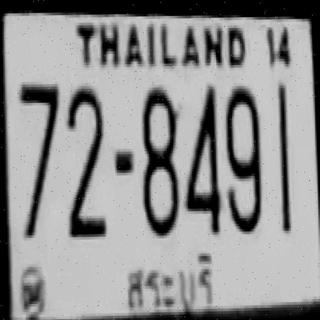N01: (276, 81, 291, 232)
N02: (64, 83, 105, 234)
N04: (182, 84, 220, 232)
N07: (18, 78, 60, 235)
N08: (140, 83, 179, 234)
N09: (224, 83, 262, 232)
P60: (121, 250, 218, 320)
